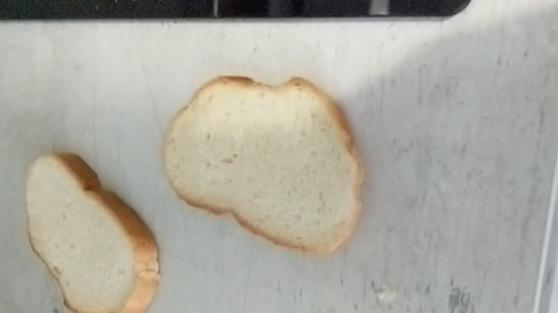white_bread: (156, 77, 364, 258), (22, 149, 159, 313)
